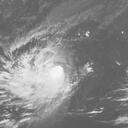cyclone: (19, 57, 72, 108)
